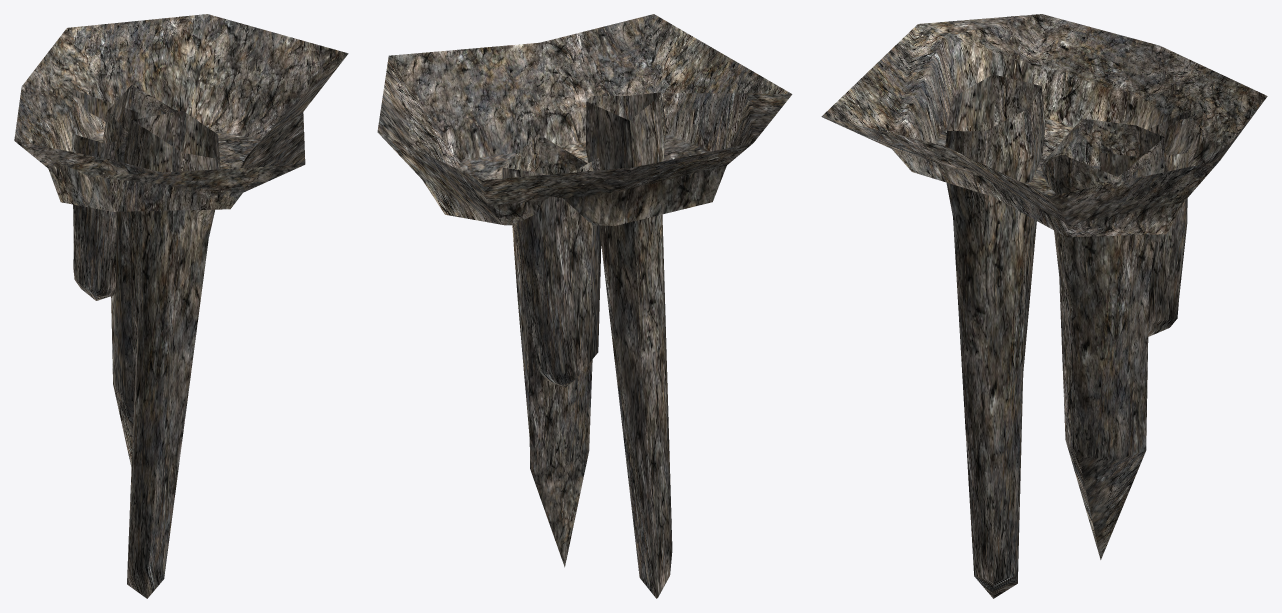
Rendered from pir_m_prp_cav_stite_med.fbx.
3 views of the same model, side by side, from view 1: azimuth 30°, elevation 25°; view 2: azimuth 150°, elevation 25°; view 3: azimuth 270°, elevation 25° (orthographic). The views are drawn at different scales.
Parts seen in each view (by area): view 1: pCube136, pCylinder121, pCylinder119, pCylinder120; view 2: pCube136, pCylinder121, pCylinder119, pCylinder120; view 3: pCube136, pCylinder121, pCylinder119, pCylinder120.
Boxes of the visible parts, box(x1,y1,x2,y2) form: pCube136: box(14, 14, 348, 211); pCylinder121: box(124, 110, 220, 598); pCylinder119: box(103, 85, 197, 467); pCylinder120: box(73, 90, 137, 300); pCube136: box(377, 14, 792, 225); pCylinder121: box(586, 92, 672, 598); pCylinder119: box(502, 134, 600, 567); pCylinder120: box(517, 196, 601, 387); pCube136: box(821, 14, 1267, 237); pCylinder121: box(945, 74, 1045, 598); pCylinder119: box(1041, 118, 1167, 559); pCylinder120: box(1099, 112, 1188, 336).
Size of the model in its own units: 2957 by 3938 by 3026.
1 material, 1 textured.
